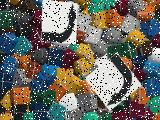Left: (40, 0, 77, 44)
Right: (84, 53, 142, 111)
